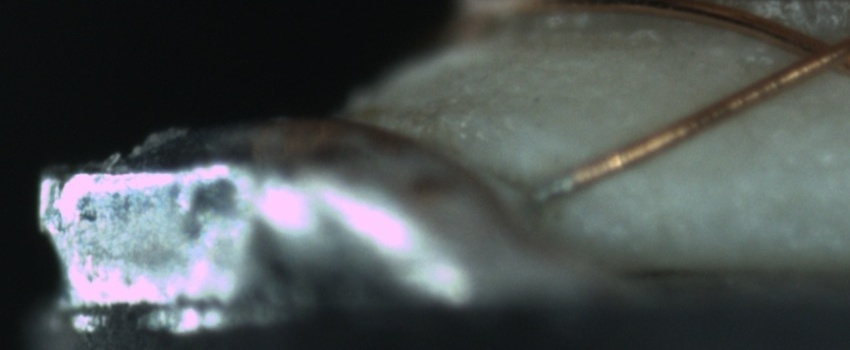CL: (778, 26, 847, 84)
TS: (527, 172, 575, 207)
